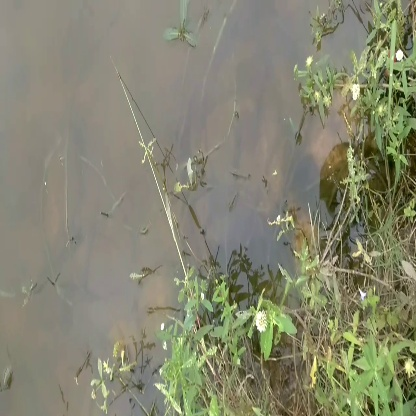grass: (162, 279, 251, 410)
